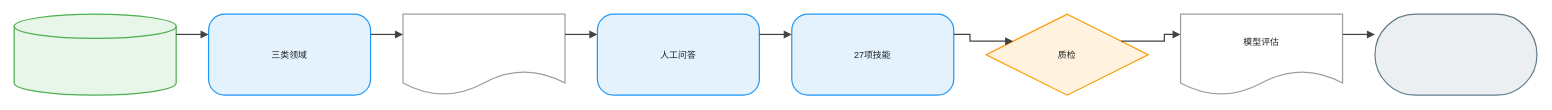
The diagram is 1552 pixels wide and 110 high, and some of its shapes have lost their labels. The centre of each missing label's shape, as x and y in pixels:
"1万片段" goes at (483,54).
"准确率" goes at (1455,54).
"音频来源" goes at (94,54).
